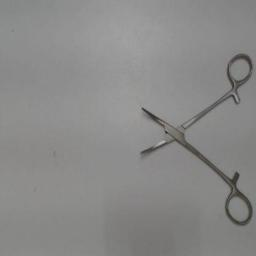Crile Artery Forceps: (133, 50, 255, 230)
